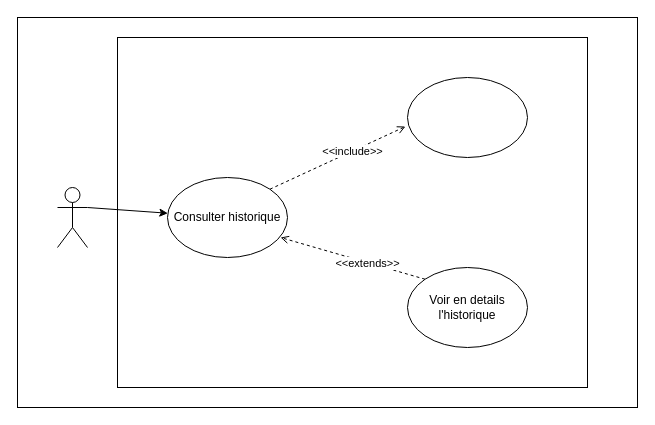
The diagram is 655 pixels wide and 425 high, and some of its shapes have lost their labels. The shapes that lost their labels are listed below. From the top down, each one's centre as x and y in pixels, then its label:
At point (467, 117): "S'authentifier".
At point (72, 217): "Client".
